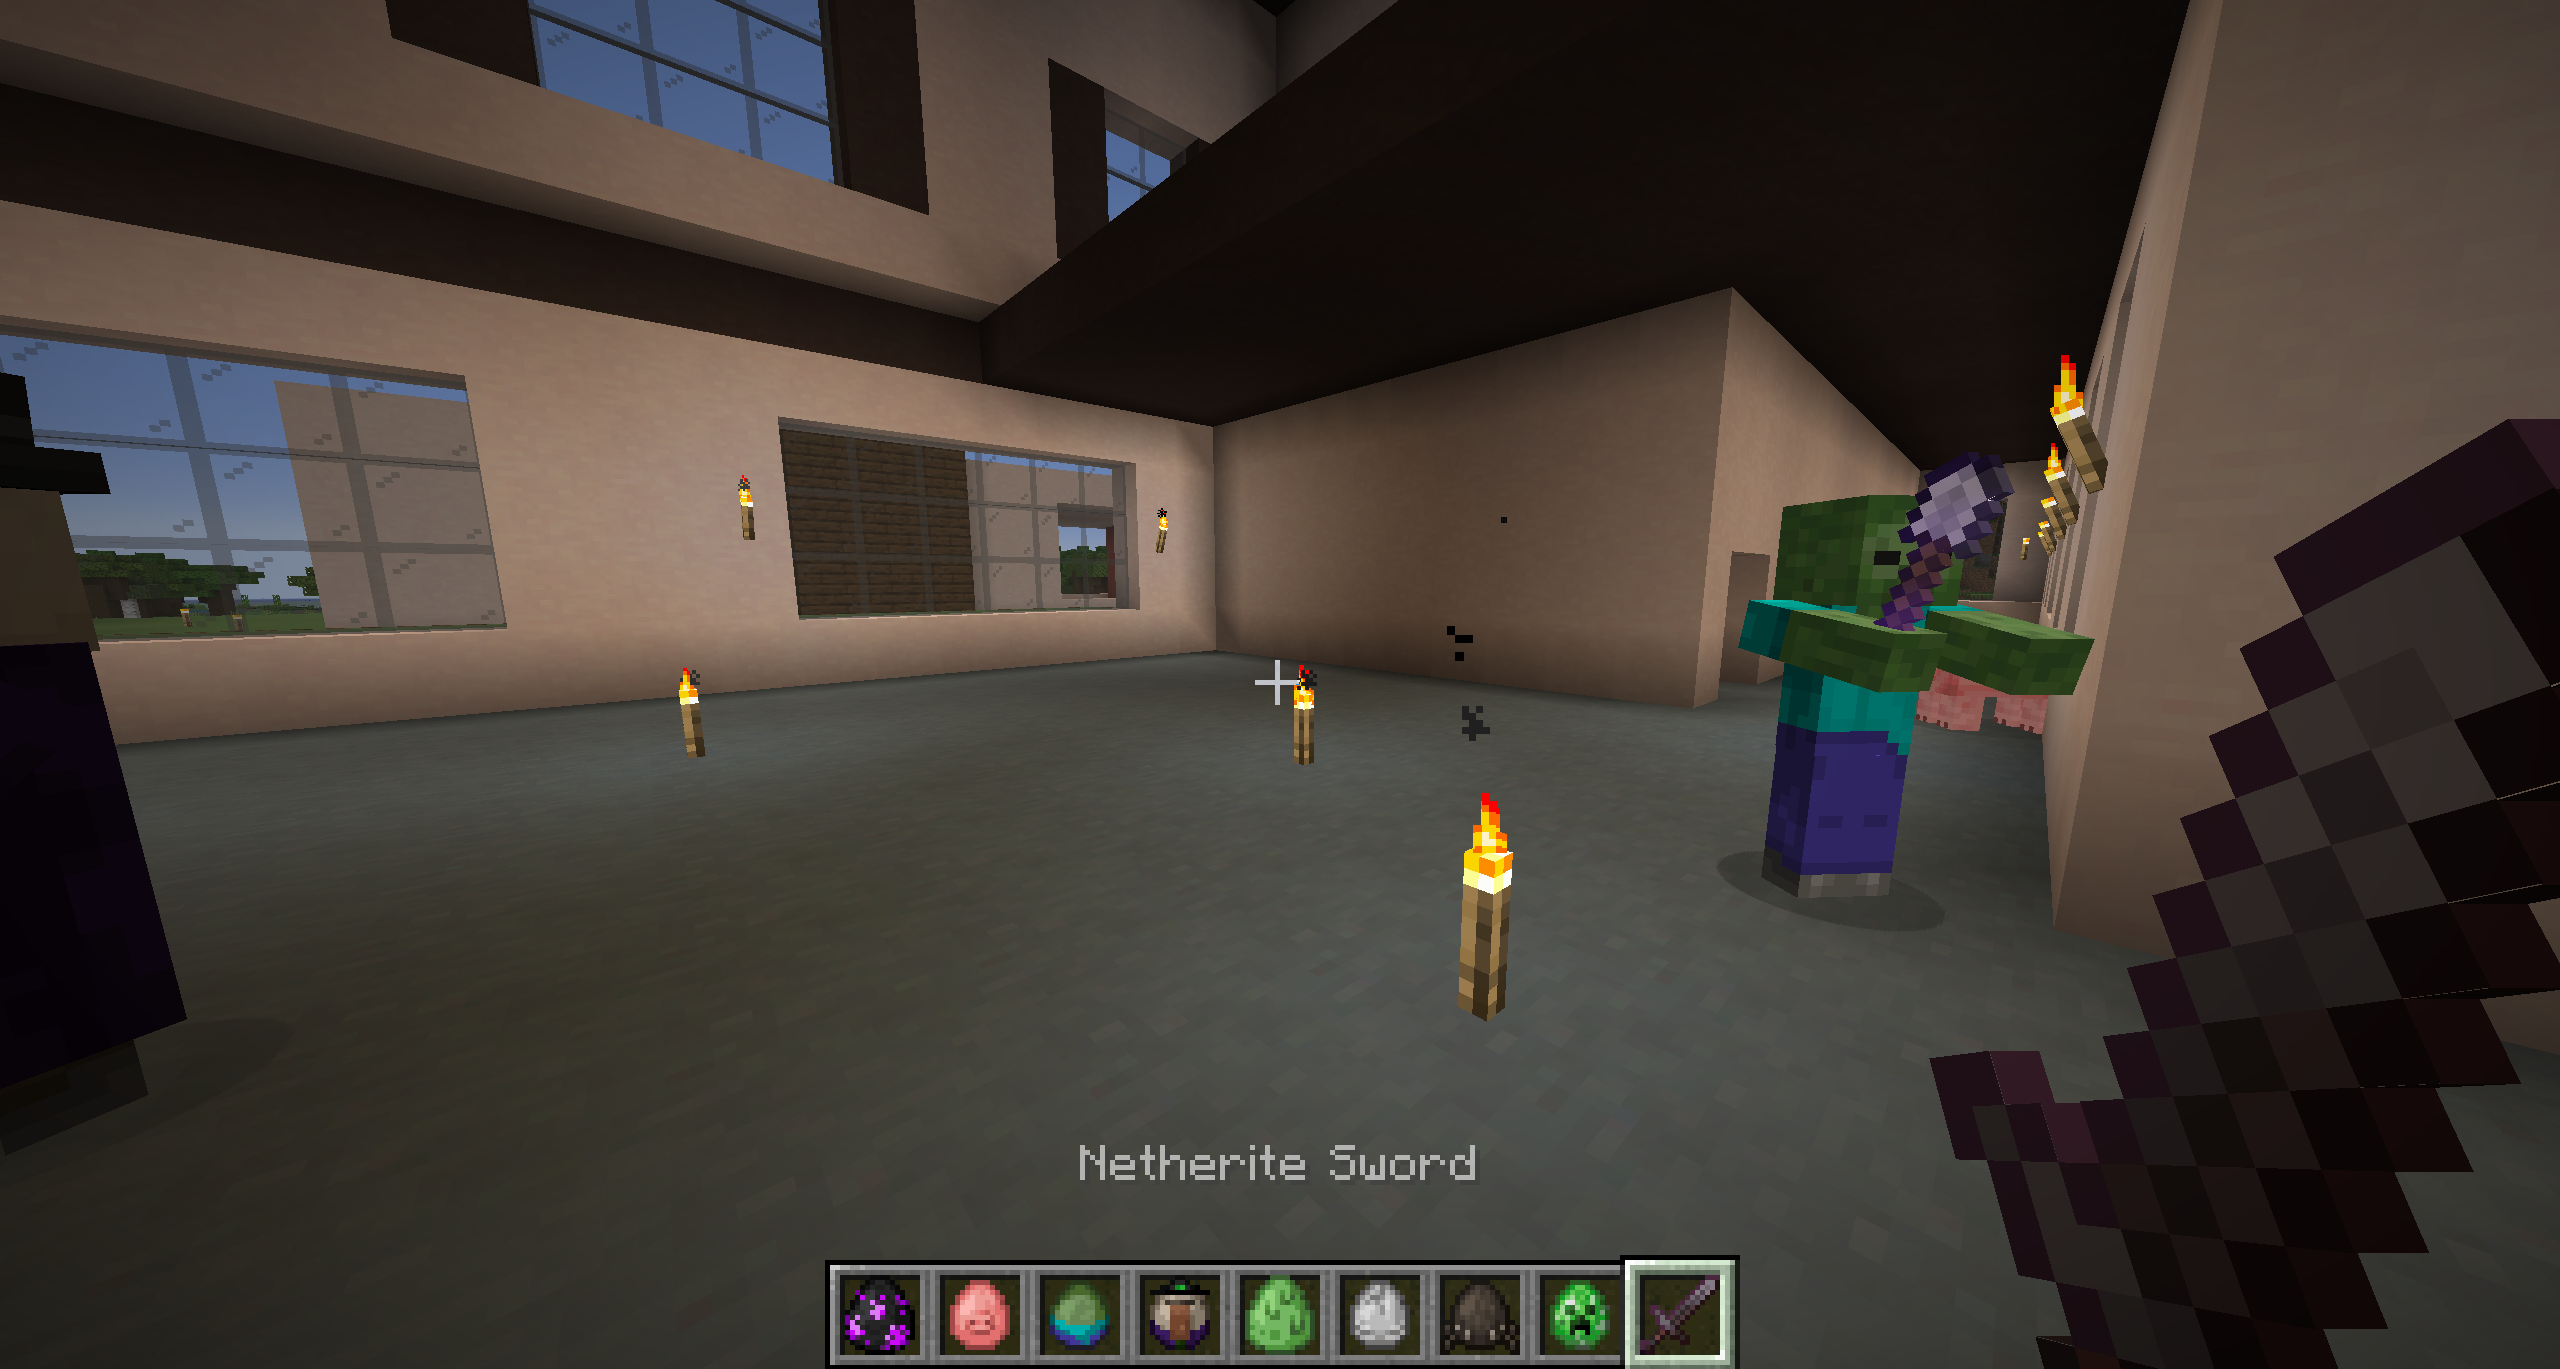zombies: (1746, 484, 1966, 905)
